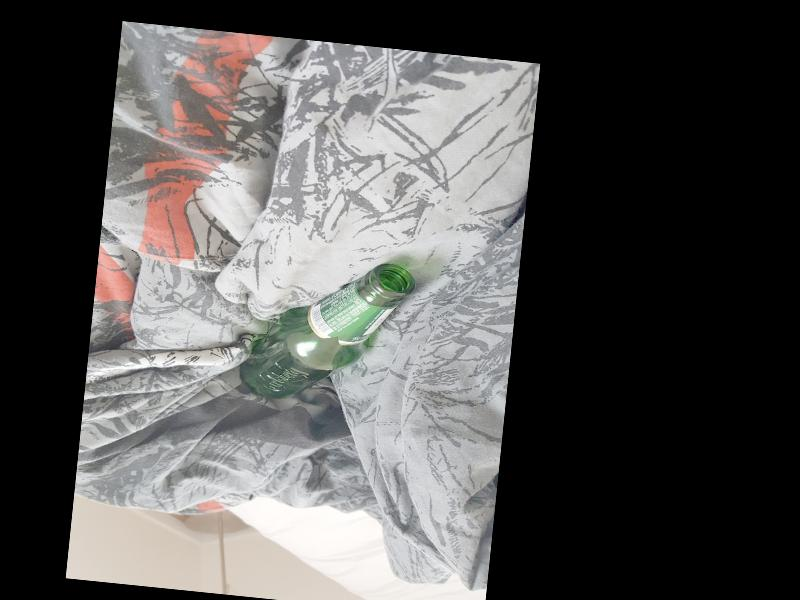Beer: (236, 249, 414, 411)
